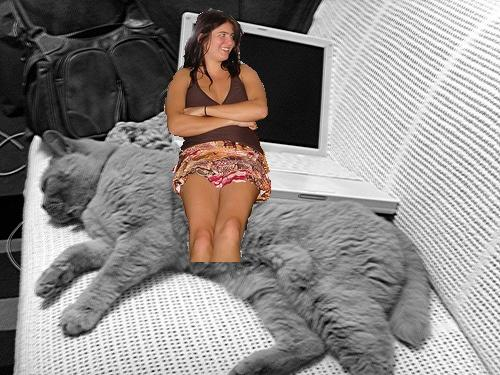tampered: (165, 9, 271, 262)
